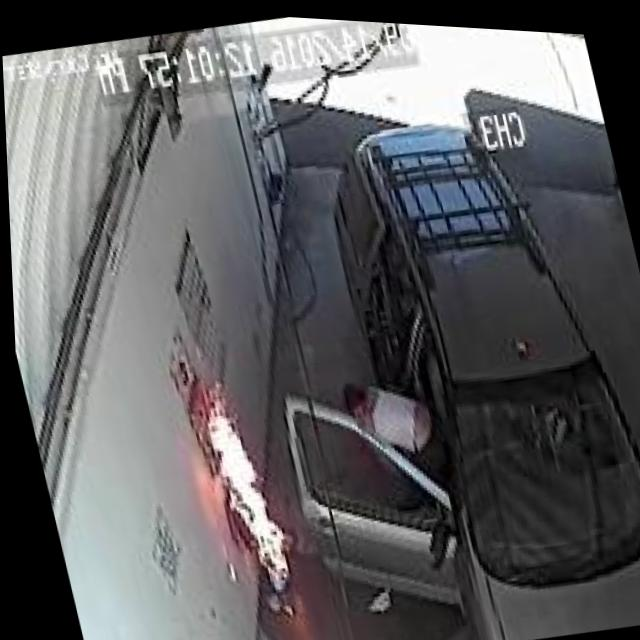fire: (186, 371, 299, 609)
